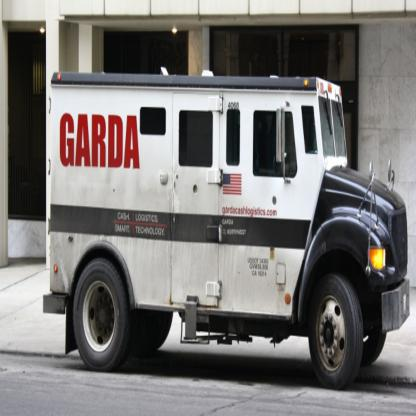Truck: (43, 66, 410, 391)
